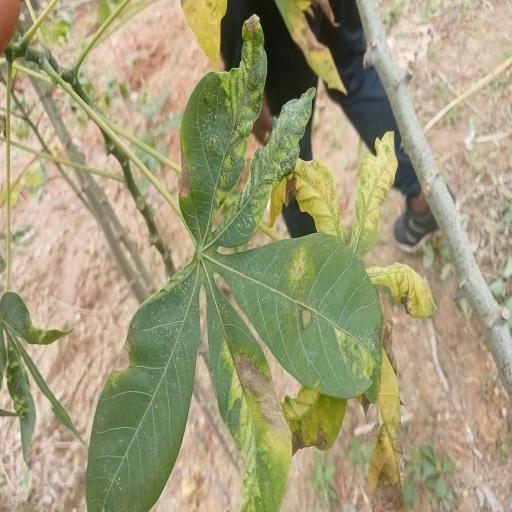Cassava_Mosaic: (84, 13, 386, 512)
